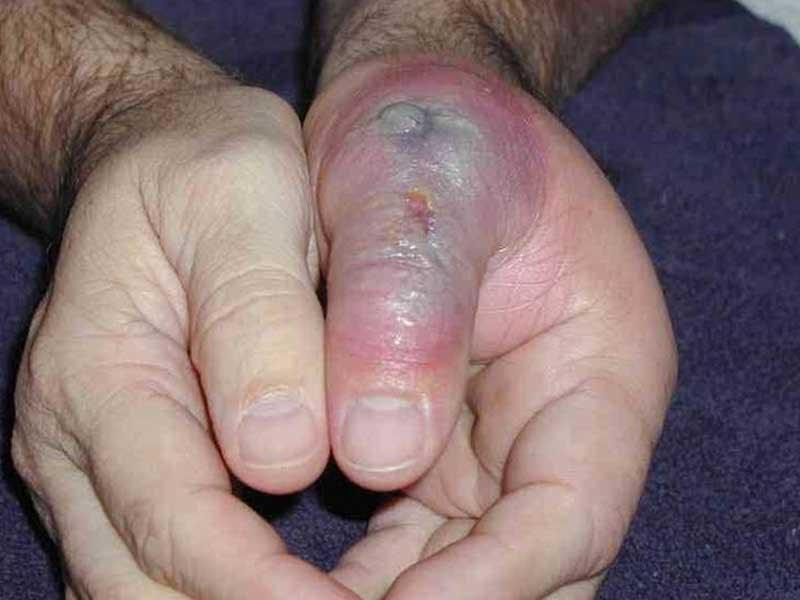Scorpion: (333, 59, 519, 398)
